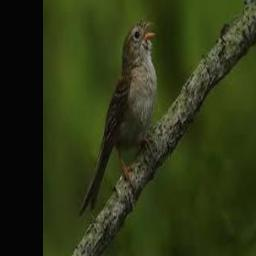Sparrow: (80, 18, 158, 215)
